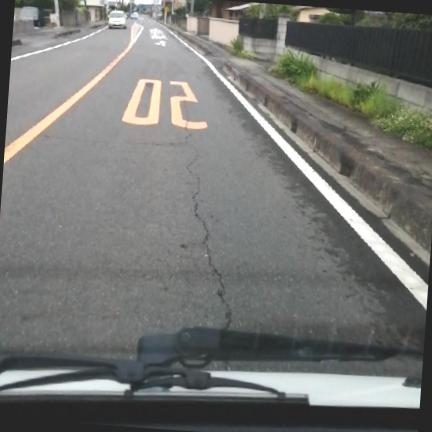Road: (0, 18, 425, 357)
